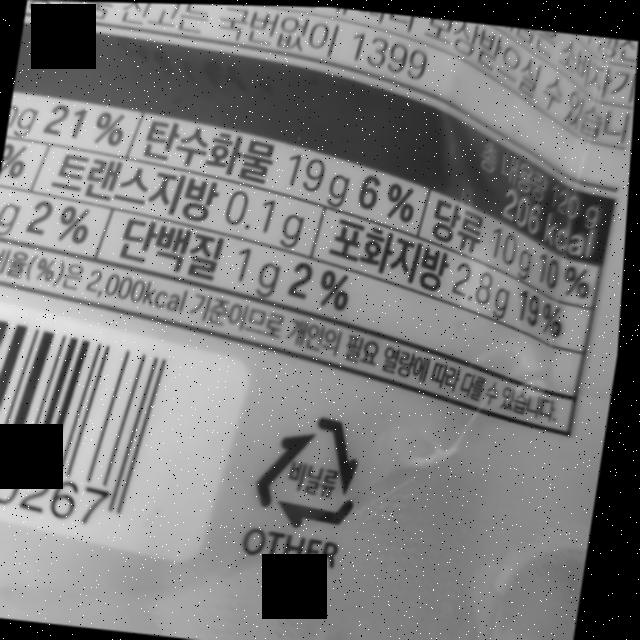Vinyl: (246, 401, 379, 535)
